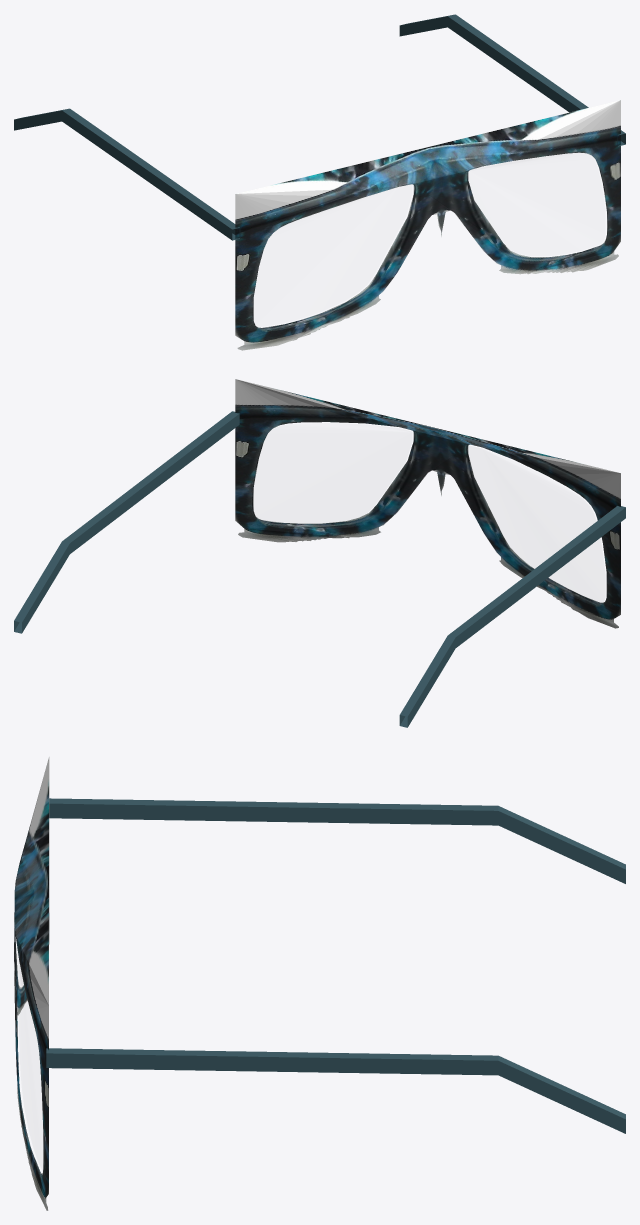
Rendered from nyc4u-empire-state_blue-demi.glb.
3 views of the same model, one above another, from view 1: azimuth 30°, elevation 25°; view 2: azimuth 150°, elevation 25°; view 3: azimuth 270°, elevation 25° (orthographic). The views are drawn at different scales.
Parts seen in each view (by area): view 1: frame_front, temple_viewer_left, temple_viewer_right; view 2: frame_front, temple_viewer_left, temple_viewer_right; view 3: temple_viewer_right, temple_viewer_left, frame_front.
Boxes of the visible parts, x1,y1,x2,y2 form: frame_front: [235, 100, 620, 350]; temple_viewer_left: [14, 108, 240, 240]; temple_viewer_right: [399, 14, 625, 146]; frame_front: [235, 379, 620, 628]; temple_viewer_left: [399, 506, 625, 727]; temple_viewer_right: [14, 411, 239, 633]; temple_viewer_right: [46, 1048, 625, 1133]; temple_viewer_left: [49, 798, 625, 883]; frame_front: [14, 757, 49, 1210].
Size of the model in its own units: 0.1489 by 0.0569 by 0.151.
Materials: 3 (2 with a texture image).
